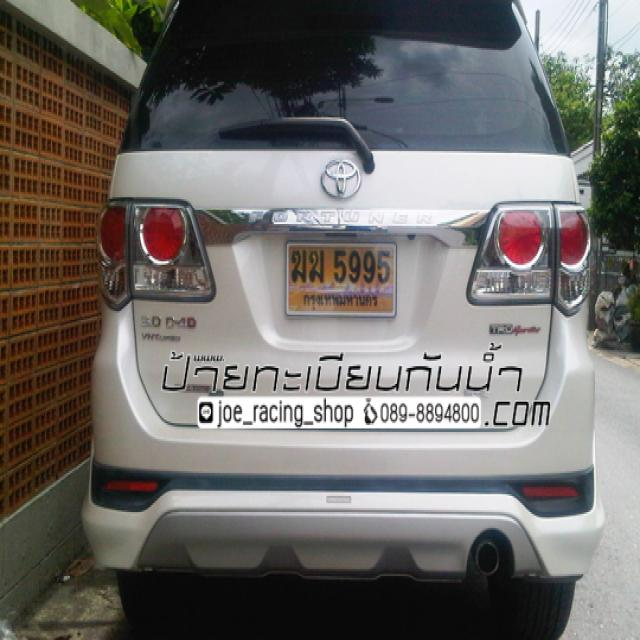license_plate: (284, 235, 399, 322)
